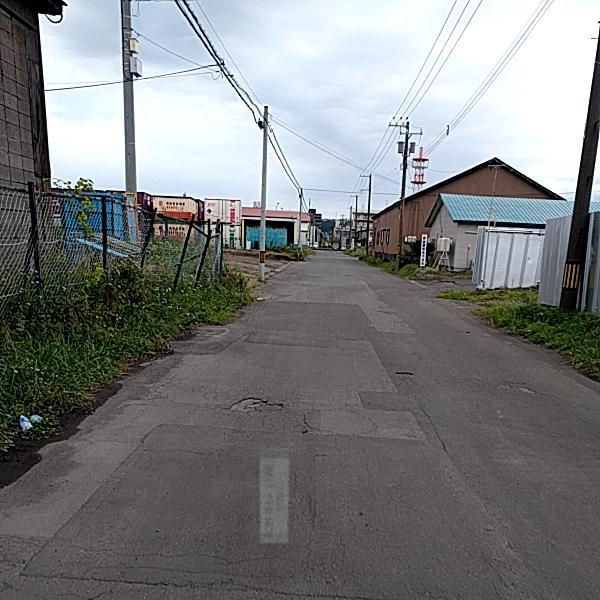D00: (412, 403, 446, 450)
D20: (27, 523, 306, 599)
D40: (216, 388, 290, 416)
